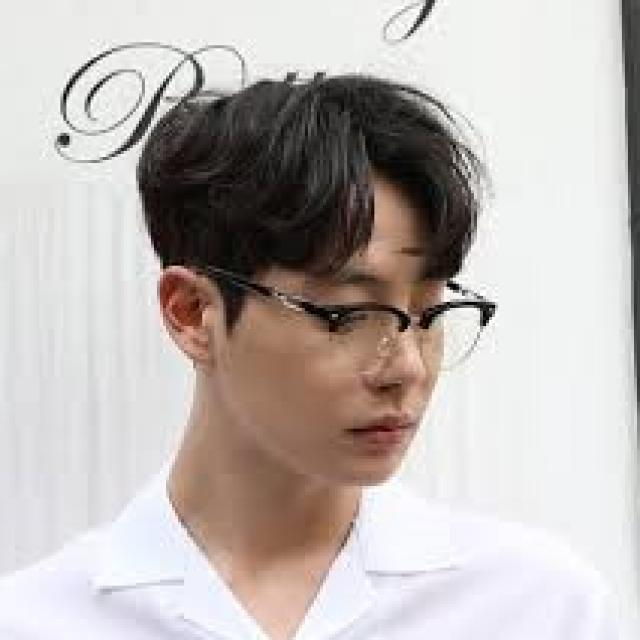Glasses: (166, 256, 513, 384)
